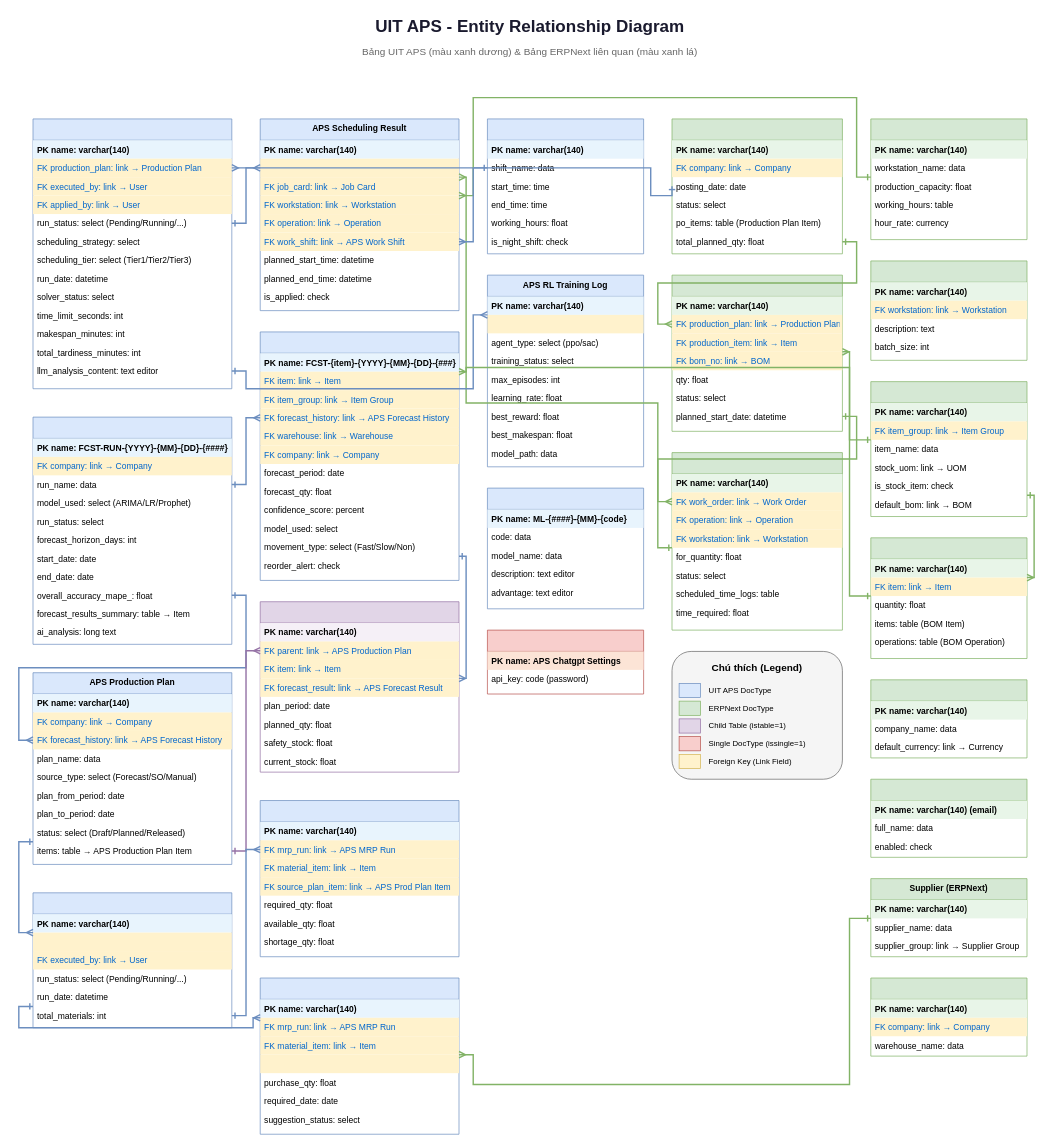
This 1053x1147 diagram has some shape labels left out. The shapes that lost their labels are listed below. From the top down, each one's box as (x1, y1, x2, y2) in pixels, then its label:
(260, 158, 459, 177): FK scheduling_run: link → APS Scheduling Run
(487, 118, 644, 254): APS Work Shift
(671, 118, 842, 254): Production Plan (ERPNext)
(870, 118, 1027, 240): Workstation (ERPNext)
(32, 118, 232, 389): APS Scheduling Run
(487, 315, 643, 333): FK scheduling_run: link → APS Sched Run
(870, 260, 1027, 360): Operation (ERPNext)
(671, 274, 842, 431): Work Order (ERPNext)
(260, 331, 459, 580): APS Forecast Result
(870, 381, 1027, 517): Item (ERPNext)
(32, 416, 232, 644): APS Forecast History
(487, 487, 644, 609): ML Model
(671, 452, 842, 630): Job Card (ERPNext)
(870, 537, 1027, 659): BOM (ERPNext)
(487, 629, 644, 694): APS Chatgpt Settings (Single)
(260, 601, 459, 772): APS Production Plan Item (Child)
(870, 679, 1027, 758): Company (ERPNext)
(870, 779, 1027, 857): User (ERPNext)
(260, 800, 459, 957): APS MRP Result
(33, 932, 231, 951): FK production_plan: link → APS Production Plan
(32, 892, 232, 1028): APS MRP Run
(870, 977, 1027, 1056): Warehouse (ERPNext)
(260, 977, 459, 1134): APS Purchase Suggestion
(260, 1054, 459, 1073): FK supplier: link → Supplier
